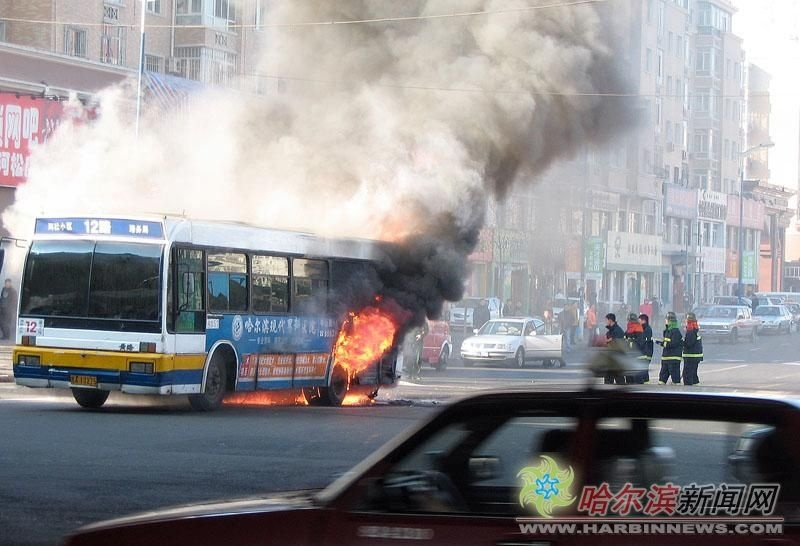fire: (326, 306, 413, 408)
